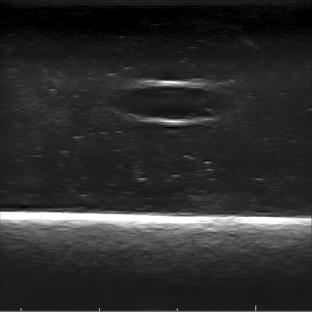vessel: (115, 80, 222, 126)
